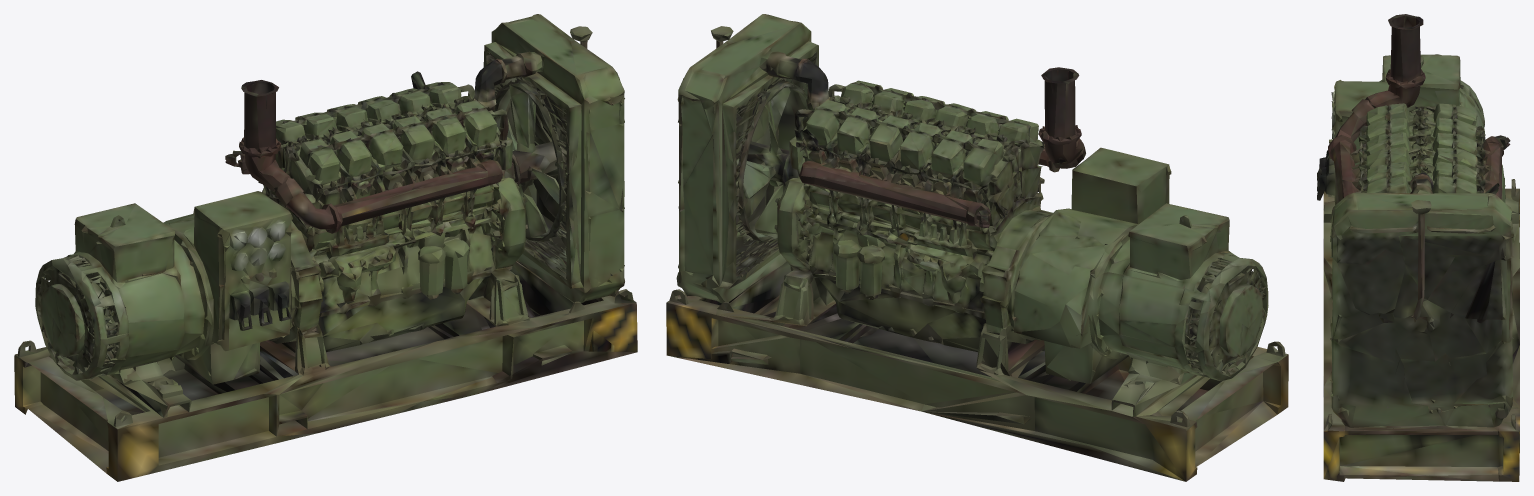
File: diesel_genset.2c20ac8fee.glb
3 renders of one model, left to right at view 1: azimuth 30°, elevation 25°; view 2: azimuth 150°, elevation 25°; view 3: azimuth 270°, elevation 25°, orthographic. The views are drawn at different scales.
Visible parts, largest first — view 1: diesel_genset; view 2: diesel_genset; view 3: diesel_genset.
Boxes of the visible parts, x1,y1,x2,y2 form: diesel_genset: (14, 14, 637, 481); diesel_genset: (666, 14, 1288, 481); diesel_genset: (1317, 14, 1519, 481).
Bounding box in the file's own units: 3.6 × 2.05 × 1.24.
1 material, 1 textured.
